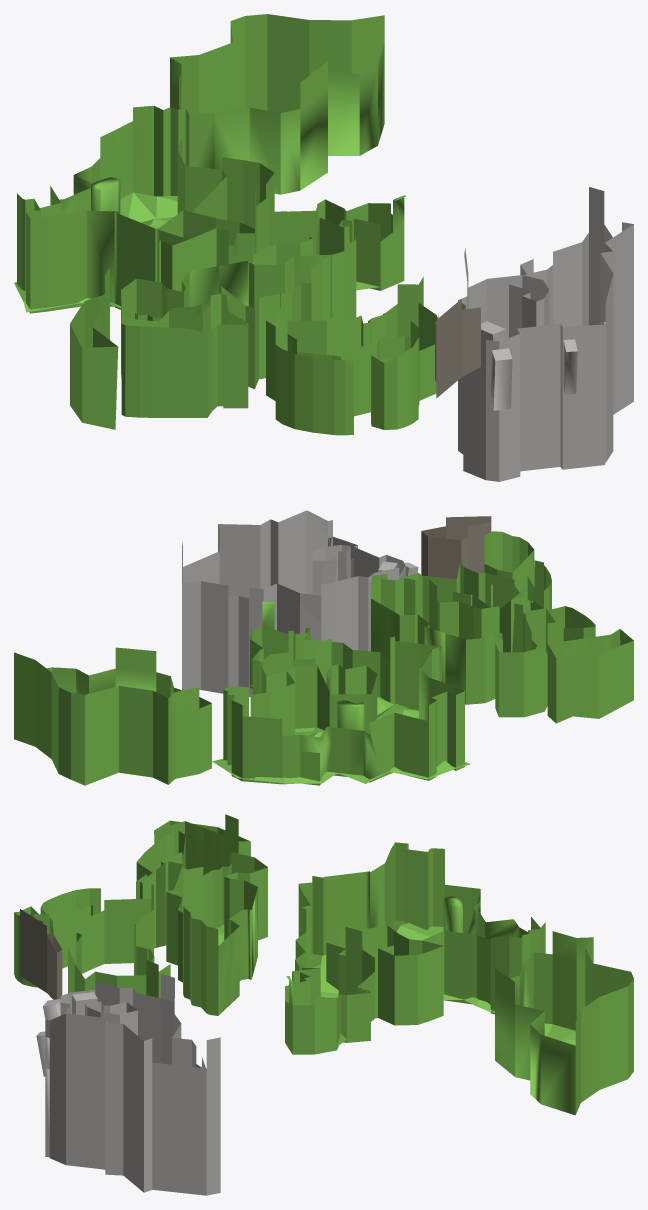
File: Grot_Depths.fbx
3 renders of one model, top to bottom at view 1: azimuth 30°, elevation 25°; view 2: azimuth 150°, elevation 25°; view 3: azimuth 270°, elevation 25°, orthographic. The views are drawn at different scales.
Parts seen in each view (by area): view 1: Dept_Butterfly, Dept_EntranceMain, Dept_Alt, Dept_Shortcut, Dept_EntranceSide; view 2: Dept_Butterfly, Dept_EntranceMain, Dept_Alt, Dept_Shortcut, Dept_EntranceSide; view 3: Dept_Butterfly, Dept_EntranceMain, Dept_Shortcut, Dept_Alt, Dept_EntranceSide.
Boxes of the visible parts, <box> form: Dept_Butterfly: <box>14,105,406,313</box>; Dept_EntranceMain: <box>458,187,633,481</box>; Dept_Alt: <box>70,233,356,429</box>; Dept_Shortcut: <box>170,14,384,194</box>; Dept_EntranceSide: <box>266,277,480,435</box>; Dept_Butterfly: <box>212,601,470,785</box>; Dept_EntranceMain: <box>182,510,418,697</box>; Dept_Alt: <box>371,577,633,723</box>; Dept_Shortcut: <box>14,647,211,785</box>; Dept_EntranceSide: <box>372,516,551,609</box>; Dept_Butterfly: <box>285,842,545,1054</box>; Dept_EntranceMain: <box>36,974,220,1195</box>; Dept_Shortcut: <box>495,931,633,1115</box>; Dept_Alt: <box>136,814,267,1015</box>; Dept_EntranceSide: <box>14,884,170,999</box>.
Bounding box in the file's own units: 8358 × 3056 × 9658.
